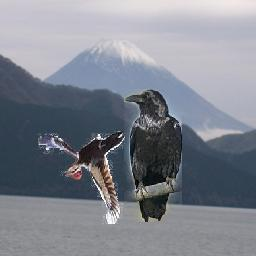Crow: (124, 90, 182, 223)
Woodpecker: (35, 132, 125, 225)
